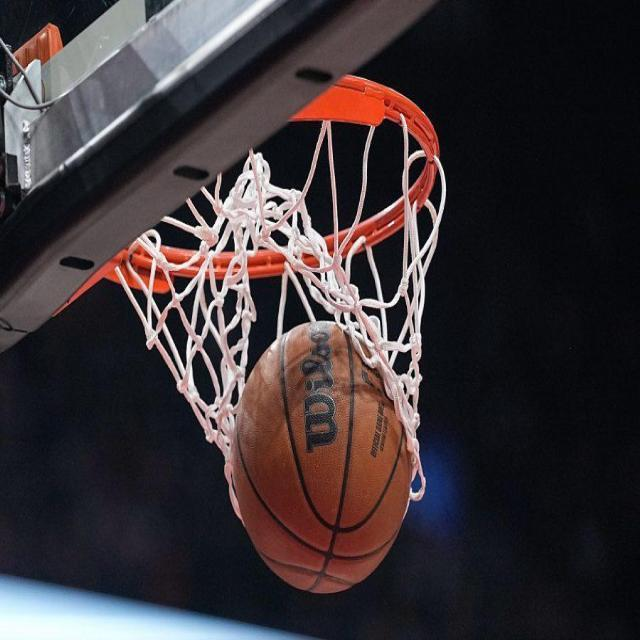Basketball: (231, 321, 411, 594)
hoop: (107, 73, 447, 524)
